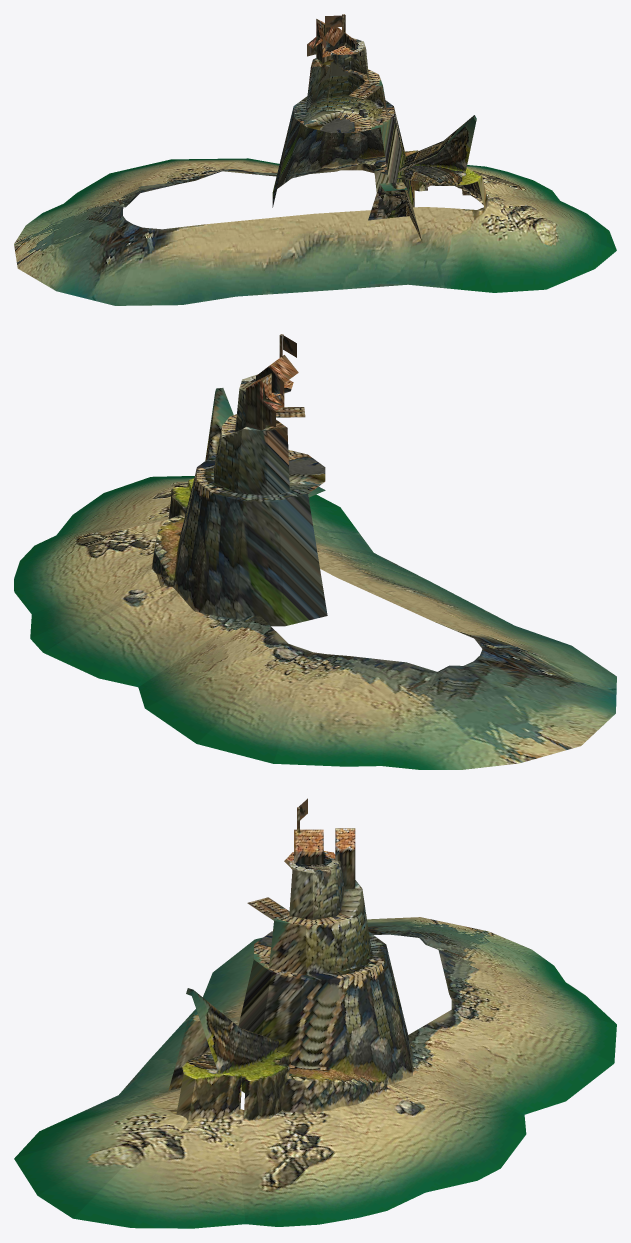
File: T_Rampart_02.fbx
The picture shows the model from 3 angles, top to bottom: view 1: azimuth 30°, elevation 25°; view 2: azimuth 150°, elevation 25°; view 3: azimuth 270°, elevation 25°; orthographic projection. The views are drawn at different scales.
Visible parts, largest first — view 1: T_Rampart_02; view 2: T_Rampart_02; view 3: T_Rampart_02.
Part boxes in pixels (left/top/right/bottom): T_Rampart_02: left=14, top=14, right=616, bottom=305; T_Rampart_02: left=14, top=334, right=616, bottom=769; T_Rampart_02: left=14, top=798, right=616, bottom=1228.
Size of the model in its own units: 26.66 by 11.56 by 21.8.
